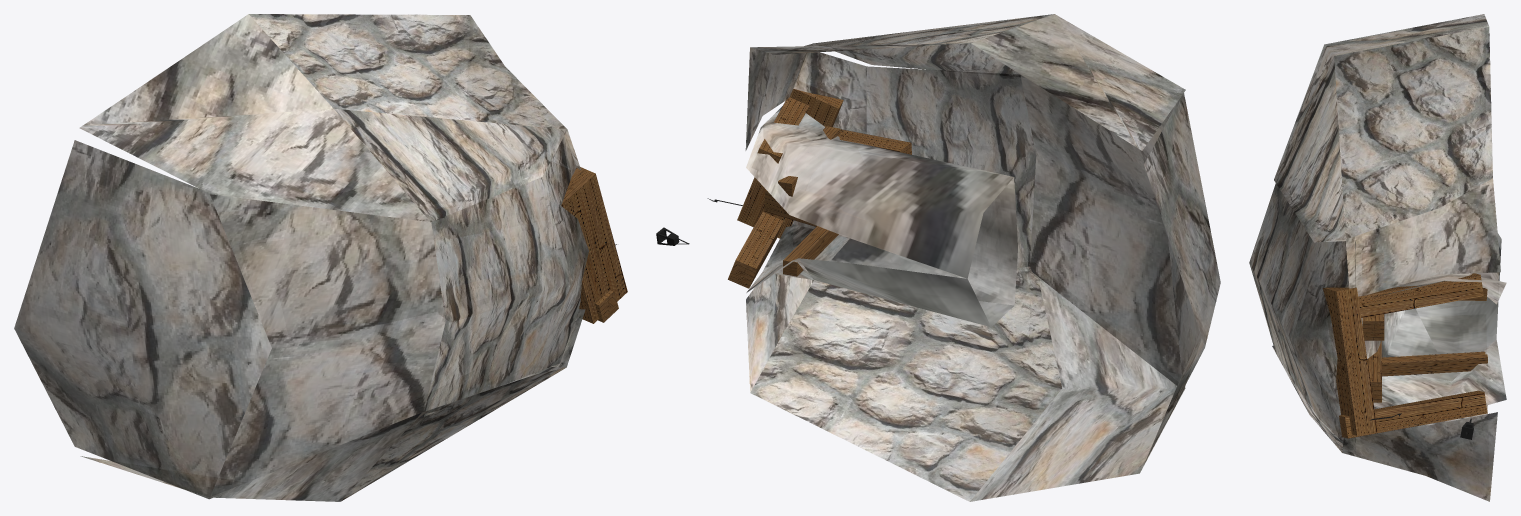
File: mine_000012.obj
3 views of the same model, side by side, from view 1: azimuth 30°, elevation 25°; view 2: azimuth 150°, elevation 25°; view 3: azimuth 270°, elevation 25° (orthographic). The views are drawn at different scales.
Parts seen in each view (by area): view 1: Cube.010, Cube.009, Cube, Cube.001; view 2: Cube.010, Cube, Cube.009, Cube.001, Cube.003, Cube.006, Cube.002, Cube.005; view 3: Cube.009, Cube.010, Cube, Cube.001, Cube.003, Cube.002, Cube.006, Cube.004, Cube.005.
Boxes of the visible parts, x1,y1,x2,y2 form: Cube.010: (14, 135, 588, 499); Cube.009: (79, 14, 581, 222); Cube: (80, 309, 585, 501); Cube.001: (561, 167, 627, 323); Cube.010: (746, 52, 1220, 463); Cube: (746, 266, 1185, 501); Cube.009: (745, 14, 1185, 150); Cube.001: (737, 88, 843, 238); Cube.003: (728, 211, 783, 288); Cube.006: (783, 226, 838, 276); Cube.002: (757, 97, 808, 163); Cube.005: (824, 126, 911, 154); Cube.009: (1274, 14, 1500, 296); Cube.010: (1249, 183, 1506, 453); Cube: (1272, 345, 1497, 501); Cube.001: (1323, 287, 1377, 435); Cube.003: (1339, 390, 1487, 438); Cube.002: (1358, 273, 1483, 317); Cube.006: (1381, 351, 1487, 376); Cube.004: (1367, 341, 1381, 402); Cube.005: (1362, 314, 1384, 340).
Bounding box in the file's own units: 9.39 × 7.42 × 4.05.
